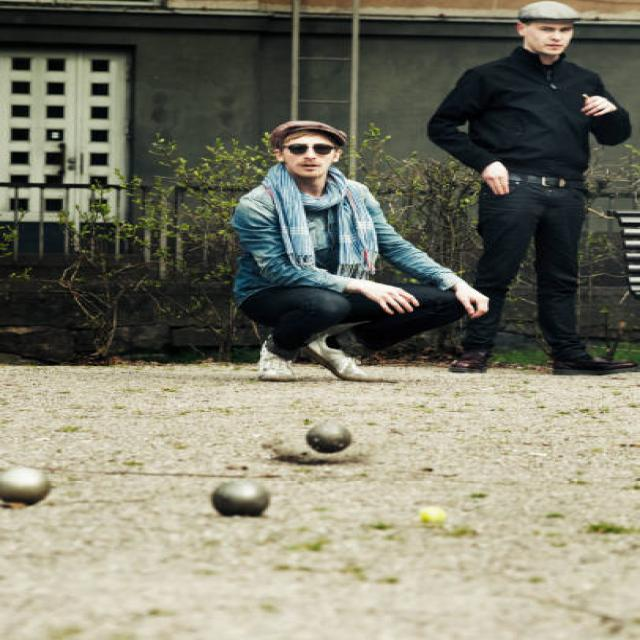hatball: (409, 500, 458, 528)
petanque: (0, 458, 62, 519), (206, 475, 279, 521), (296, 418, 364, 459)
